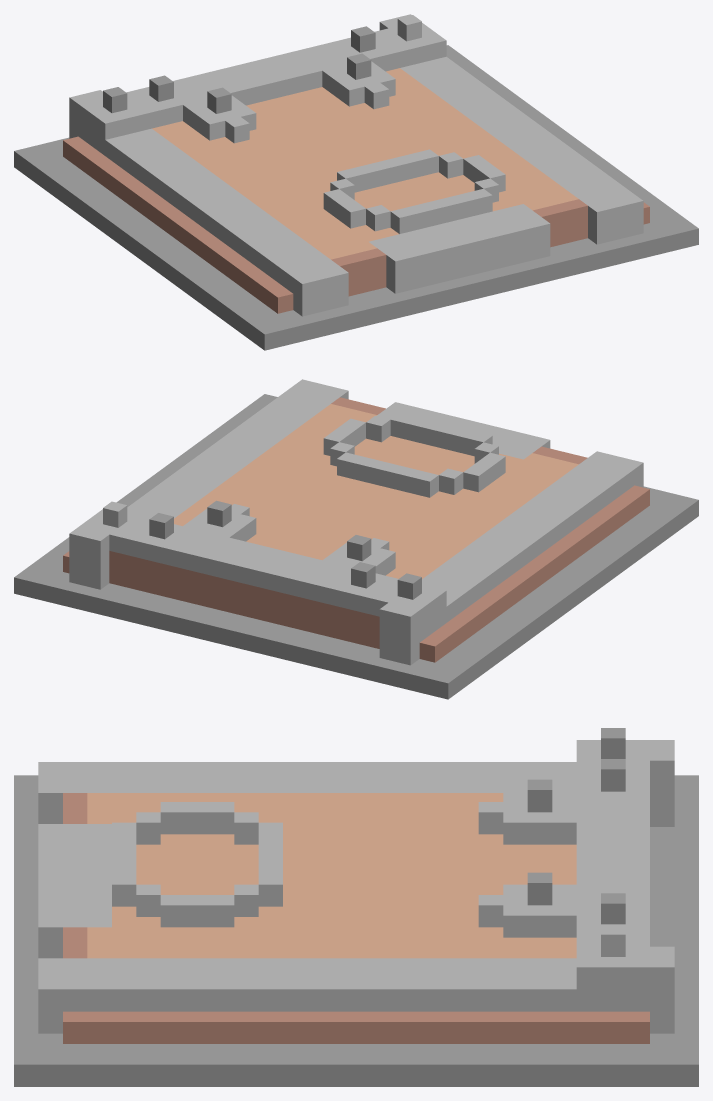
The model's file is ExitDoor.fbx.
3 views of the same model, one above another, from view 1: azimuth 30°, elevation 25°; view 2: azimuth 150°, elevation 25°; view 3: azimuth 270°, elevation 25° (orthographic). The views are drawn at different scales.
Parts seen in each view (by area): view 1: ExitDoor; view 2: ExitDoor; view 3: ExitDoor.
Part boxes in pixels (x1,y1,x2,y2): ExitDoor: (14, 14, 698, 350); ExitDoor: (14, 379, 698, 699); ExitDoor: (14, 728, 698, 1086).
Size of the model in its own units: 280 by 50 by 280.
